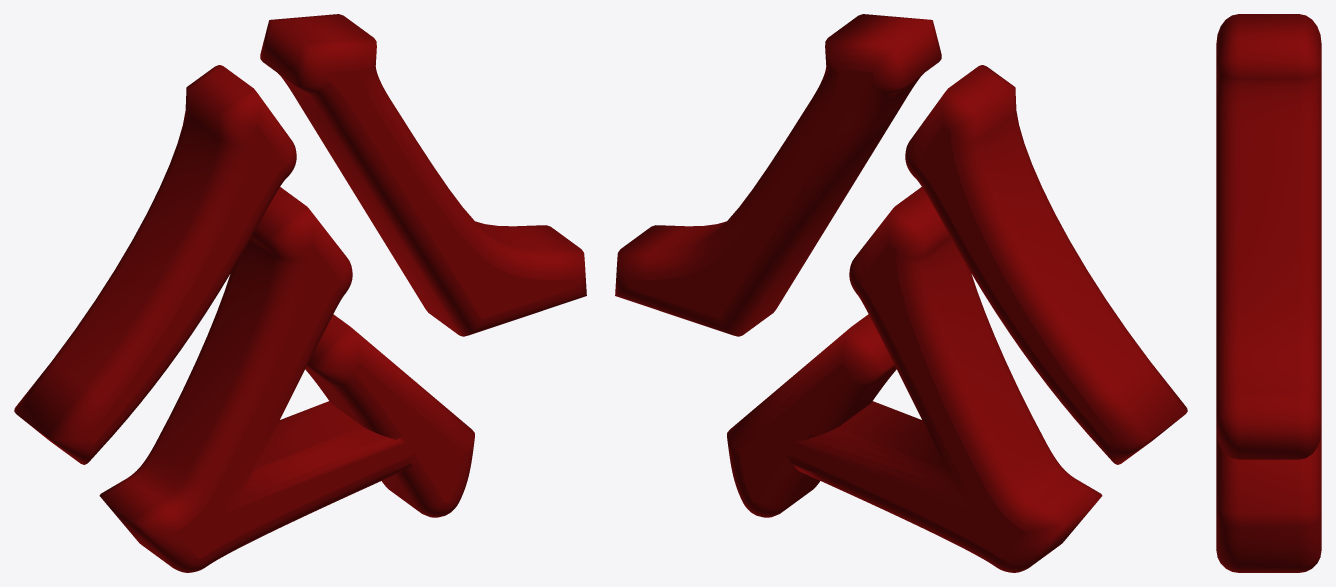
The model's file is gong.fbx.
The picture shows the model from 3 angles, left to right: view 1: azimuth 30°, elevation 25°; view 2: azimuth 150°, elevation 25°; view 3: azimuth 270°, elevation 25°; orthographic projection. The views are drawn at different scales.
Visible parts, largest first — view 1: gong; view 2: gong; view 3: gong.
Boxes of the visible parts, left/top/right/bottom form: gong: left=14, top=14, right=586, bottom=572; gong: left=615, top=14, right=1187, bottom=572; gong: left=1216, top=14, right=1321, bottom=572.
Bounding box in the file's own units: 80.87 × 72.46 × 14.
